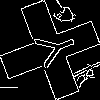Y: (25, 25, 80, 73)
